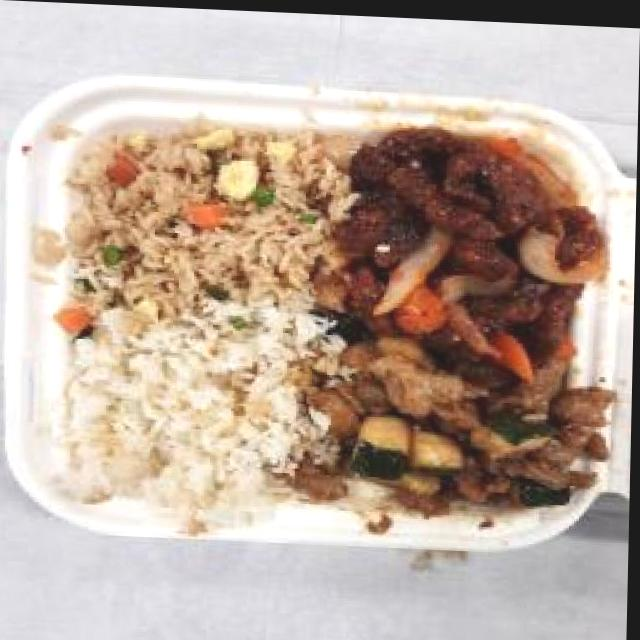Beijing Beef: (307, 111, 626, 360)
Fried Rice: (67, 118, 354, 350)
Kung Pao Chicken: (301, 326, 608, 519)
White Steamed Rice: (56, 327, 307, 514)
